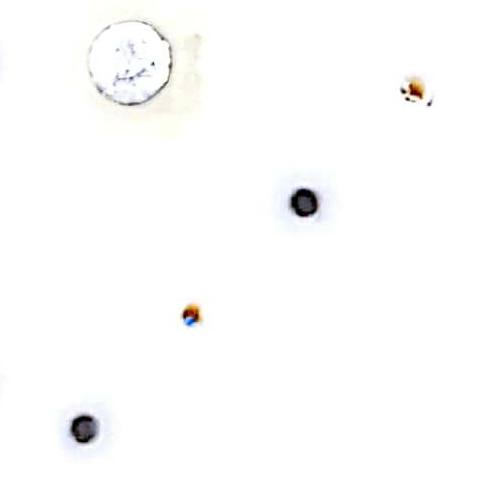abnormal: (66, 7, 211, 133)
cancer: (47, 388, 138, 469), (270, 167, 353, 238)
normal: (387, 52, 461, 122), (171, 290, 226, 344)
